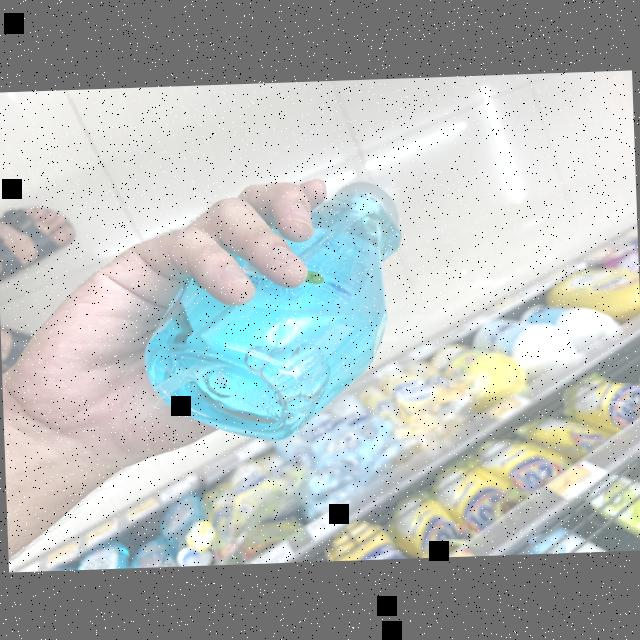chemical_plastic_bottle: (134, 169, 424, 454)
